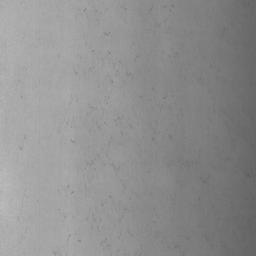Silk spot: (80, 154, 120, 178), (102, 51, 133, 79), (86, 208, 103, 232)
